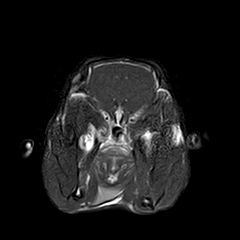Brain: (73, 29, 172, 127)
